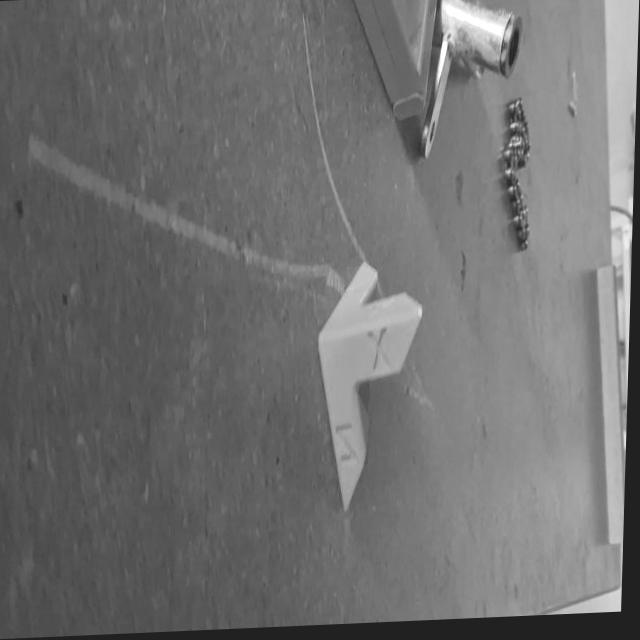eje: (312, 255, 425, 515)
